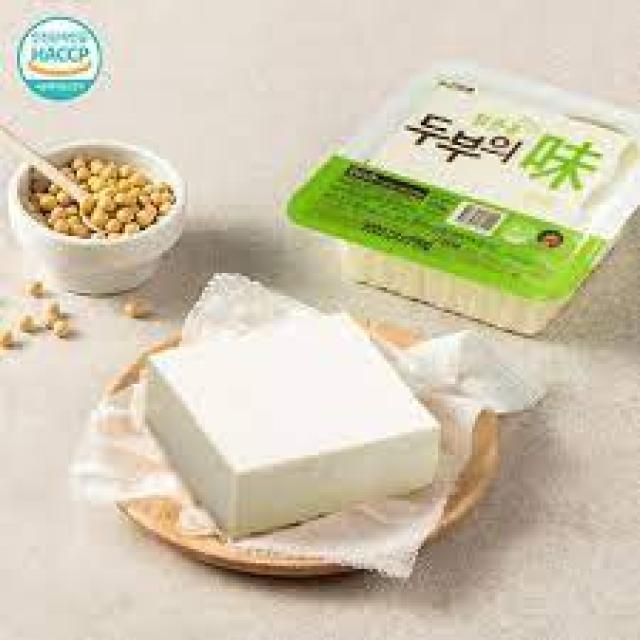tofu: (127, 321, 449, 544)
